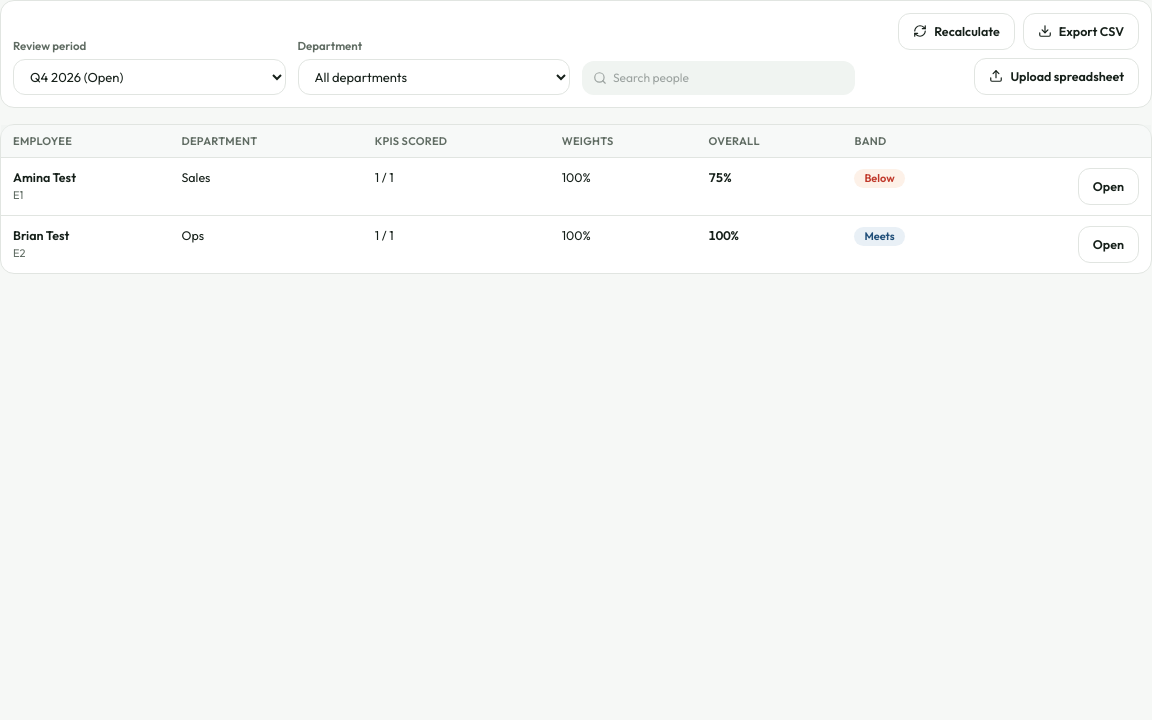
Test: Scorecards › scores a KPI calculated from tasks on its calculated value until a final score replaces it
Expected: the text "75%" is shown, [708,169,732,185]
Expected: the text "100%" is shown 2 times, [562,227,591,243]; [708,227,739,243]
Click the button with aria-label "Open scorecard for Amina Test": [1108, 186] box [1078,168,1139,205]
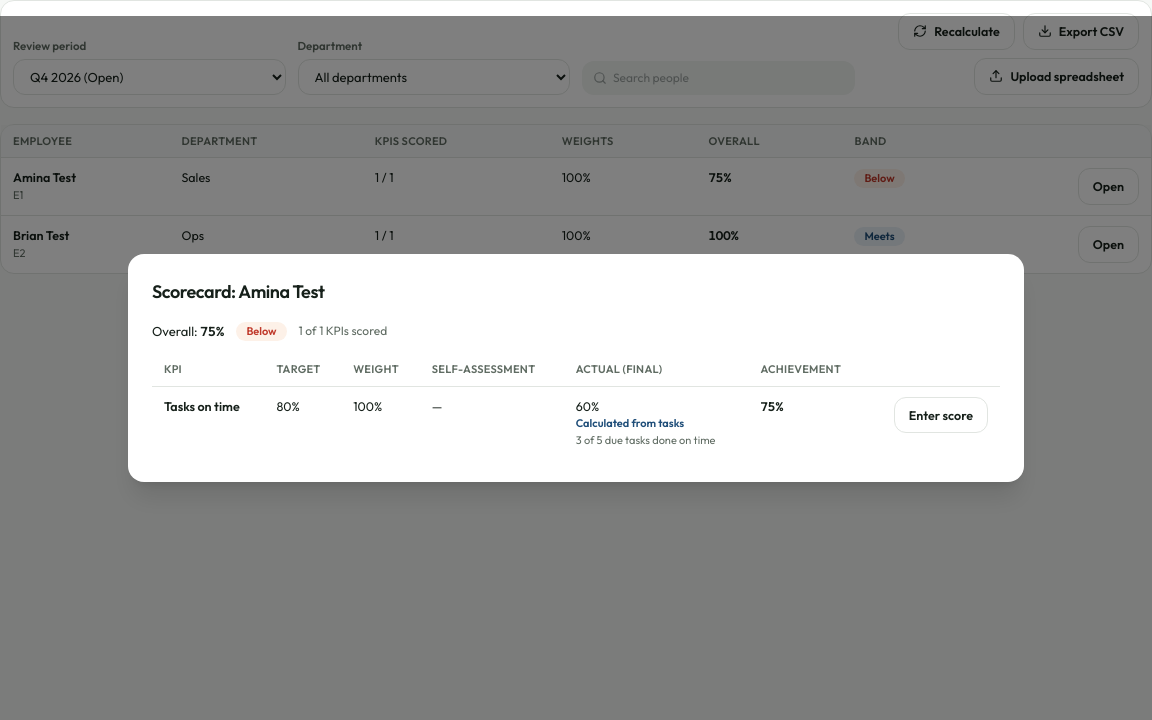
Now the text "Calculated from tasks" is shown, box [576,416,684,430]
Now the text "3 of 5 due tasks done on time" is shown, box [576,432,736,448]
